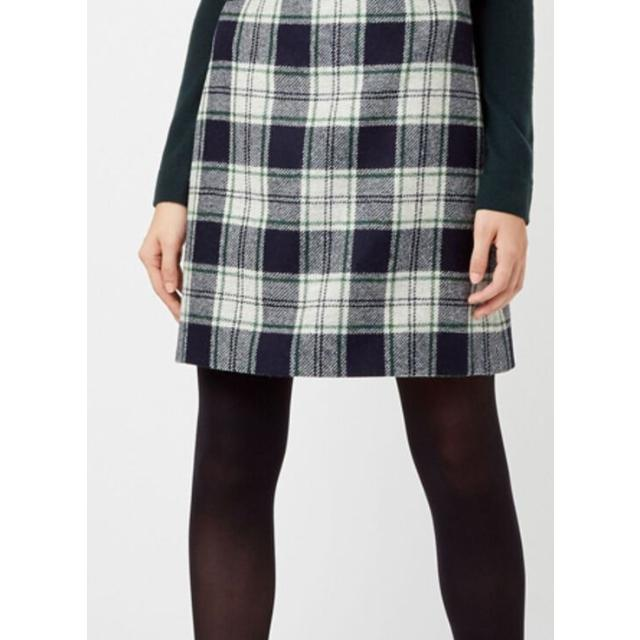wool: (148, 0, 554, 394)
